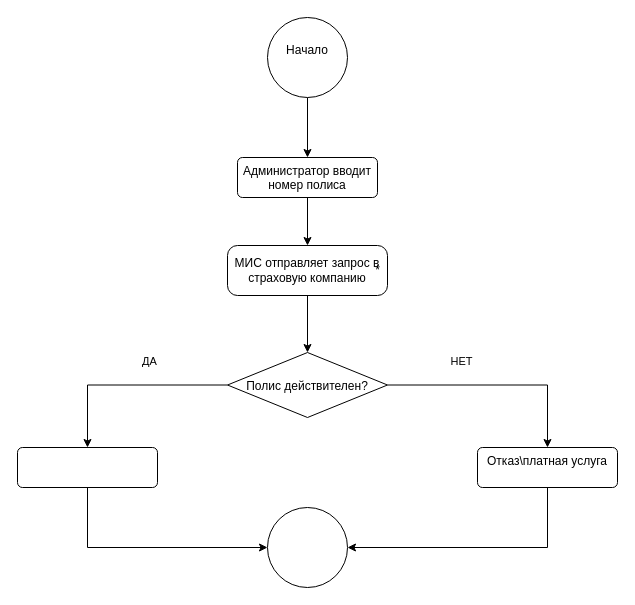
Some shapes in this 635 by 605 pixel diagram are drawn without their labels. The centre of each missing label's shape, as x and y in pixels:
Конец: (307,547)
Пациент отправляется к врачу: (87,467)
